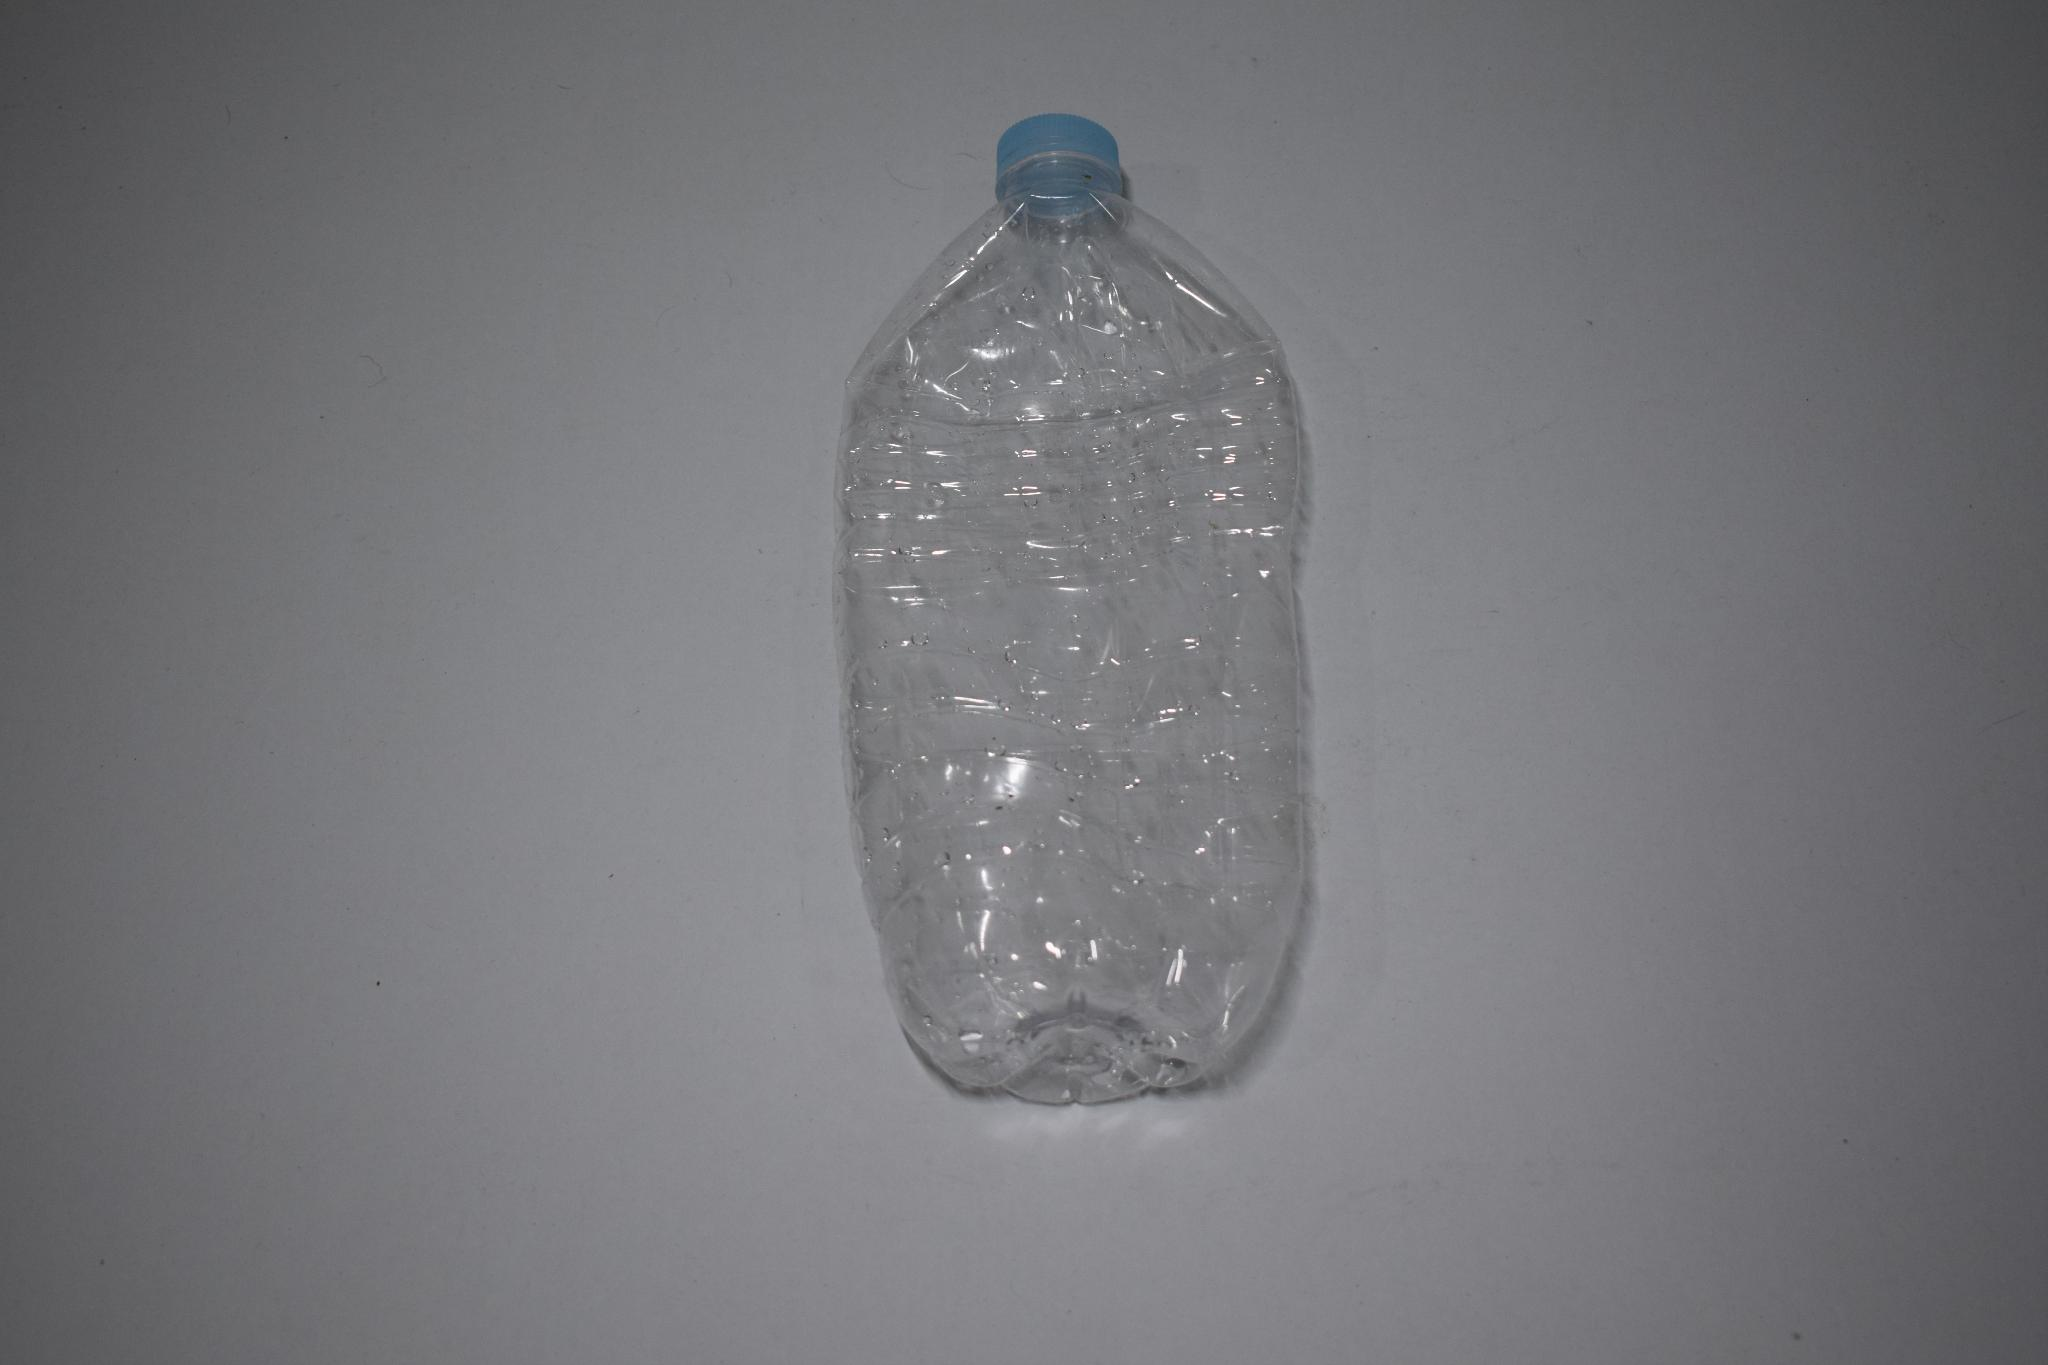bottle: (827, 128, 1351, 1127)
